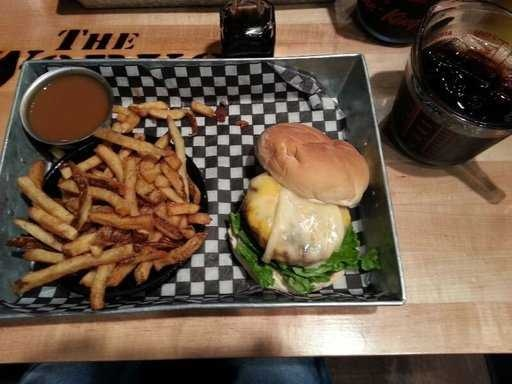hamburger: (241, 109, 367, 284)
